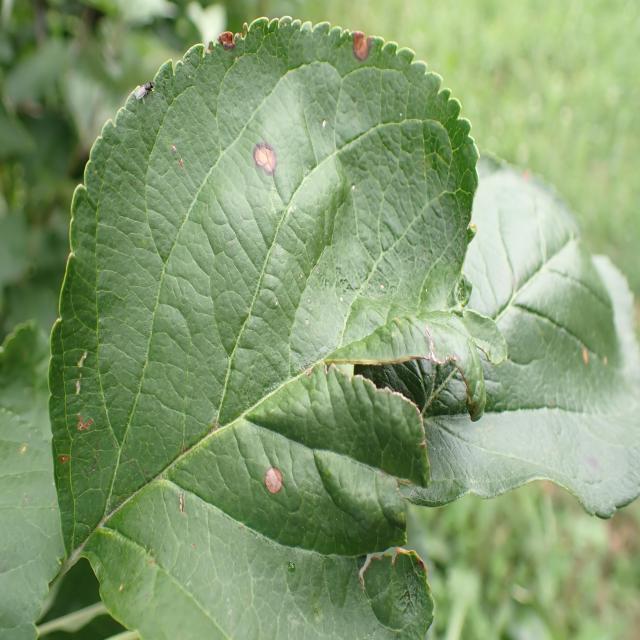Black Rot: (247, 139, 291, 203), (207, 4, 253, 65), (344, 14, 386, 77), (254, 450, 291, 518)
